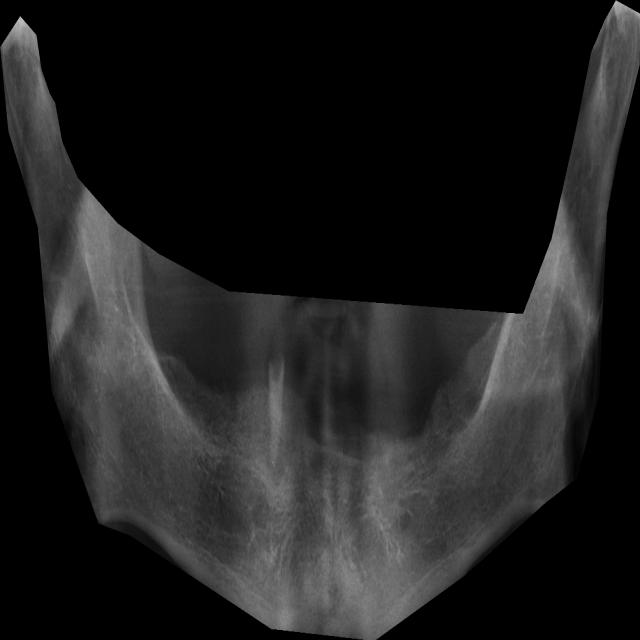mandibula: (0, 0, 640, 640)
